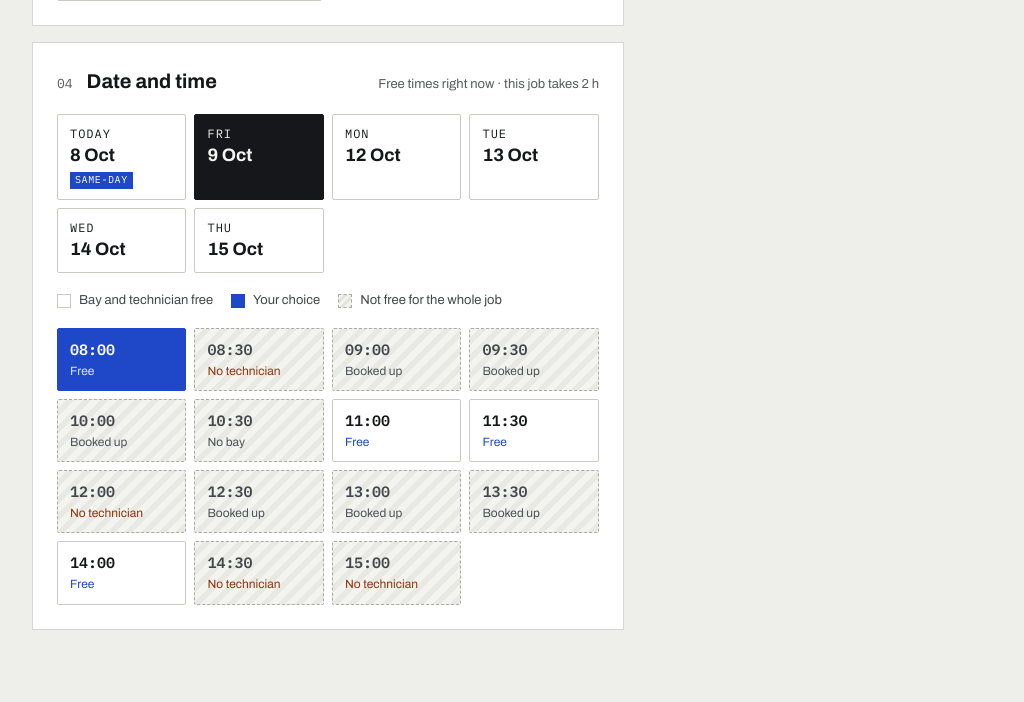
it: Book screen › changing the service clears the slot and auto-selects the first available
(page scrolled)
Click the button "11:00 Free". click: (397,431)
box: left=332, top=399, right=462, bottom=462
(page scrolled)
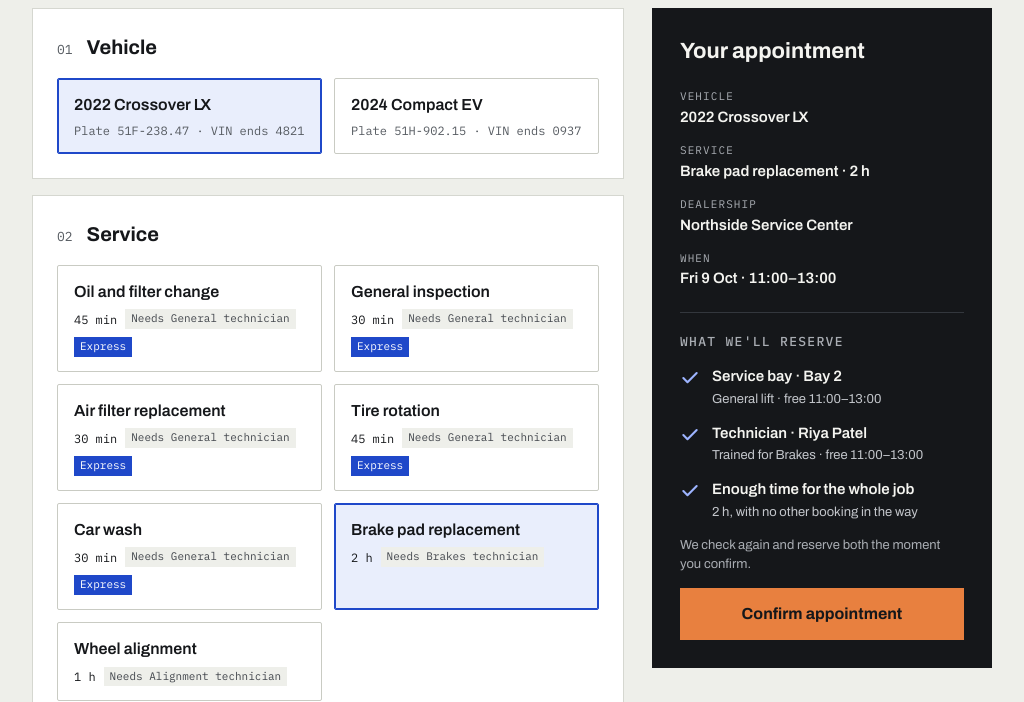
Click the button "Oil and filter change". click: (190,319)
box: left=57, top=265, right=322, bottom=372
(page scrolled)
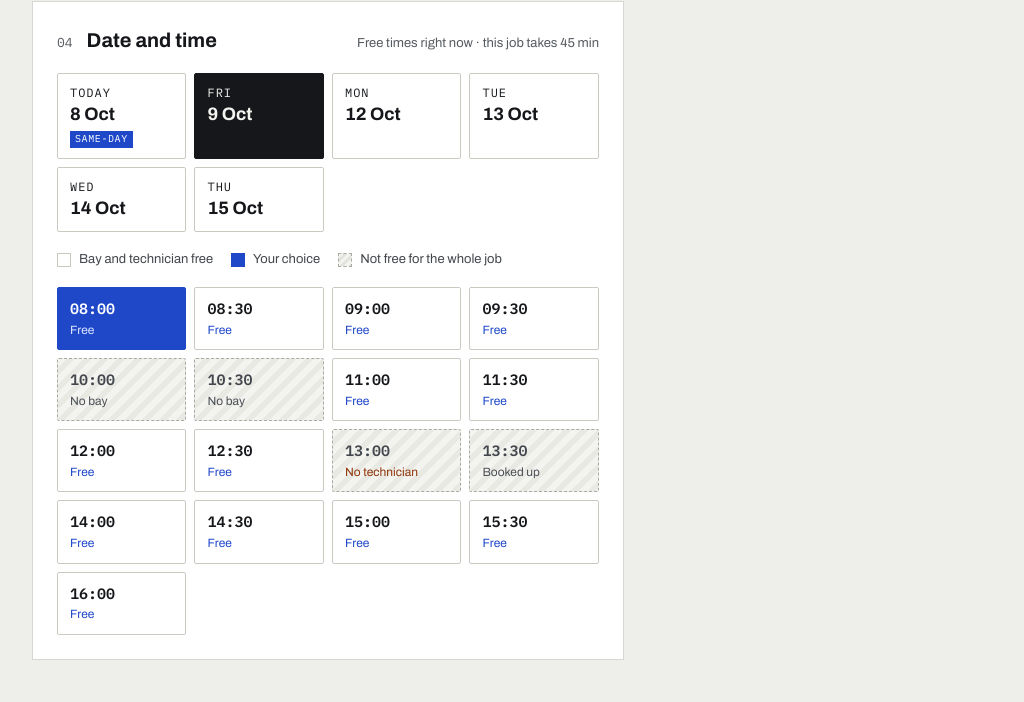
expect the text "Free times right now · this job takes 45 min" is shown: met, box left=357, top=34, right=599, bottom=52
